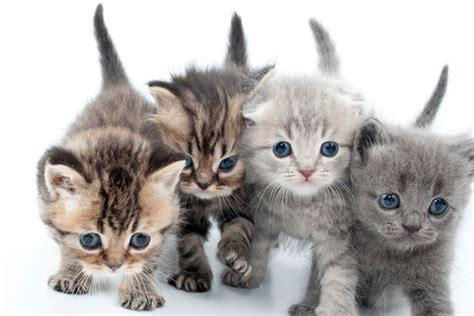cat: (37, 3, 185, 309), (153, 14, 276, 290), (253, 19, 360, 316), (350, 65, 474, 316)
